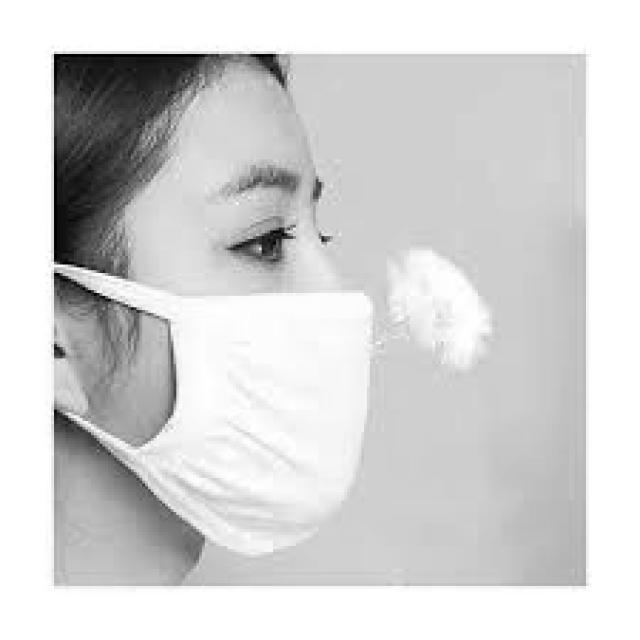with_mask: (51, 259, 376, 557)
